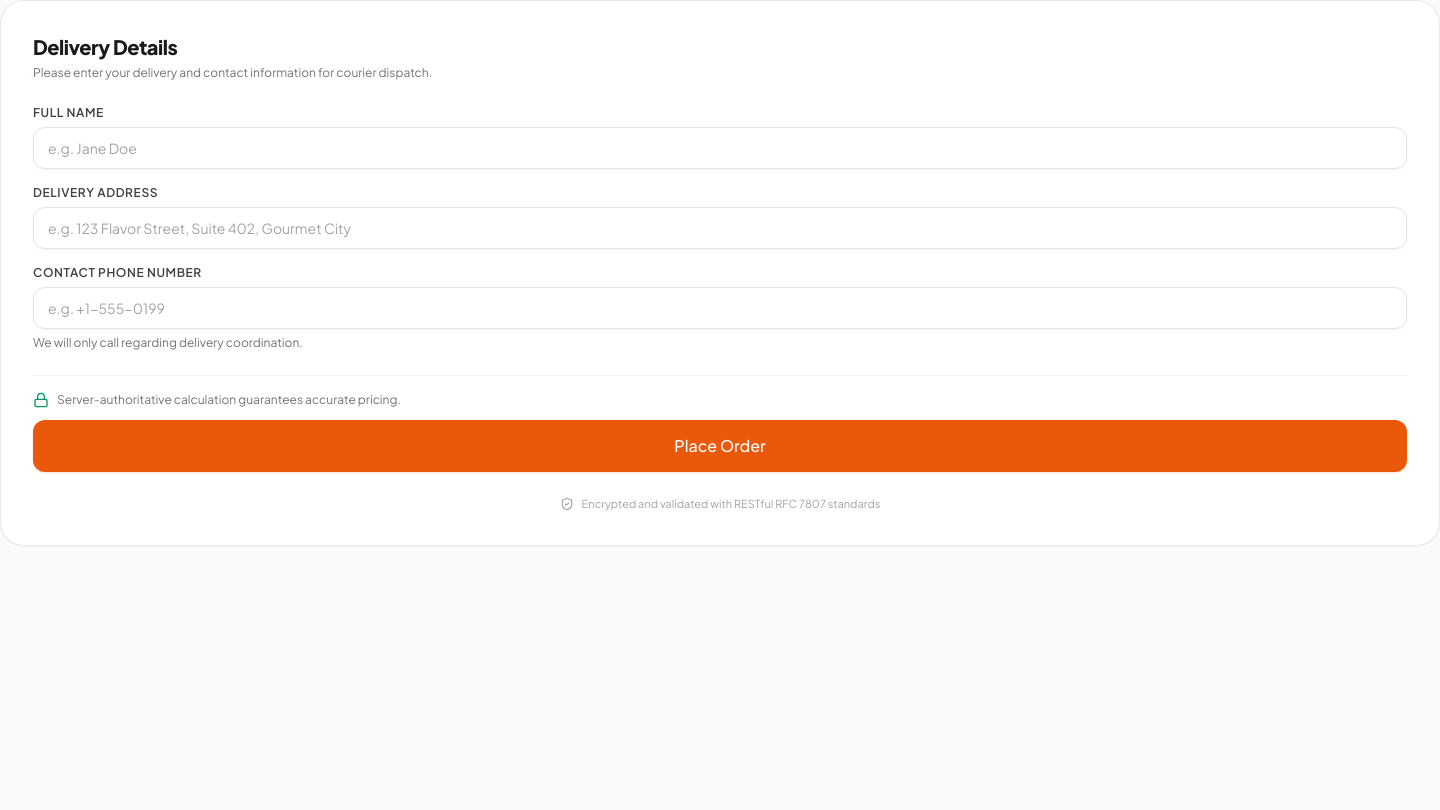
CheckoutForm Validation › displays field validation errors when submitting empty inputs
This screenshot has width=1440, height=810.
Click the button "Place Order".
click(720, 446)  # box [33, 420, 1407, 472]
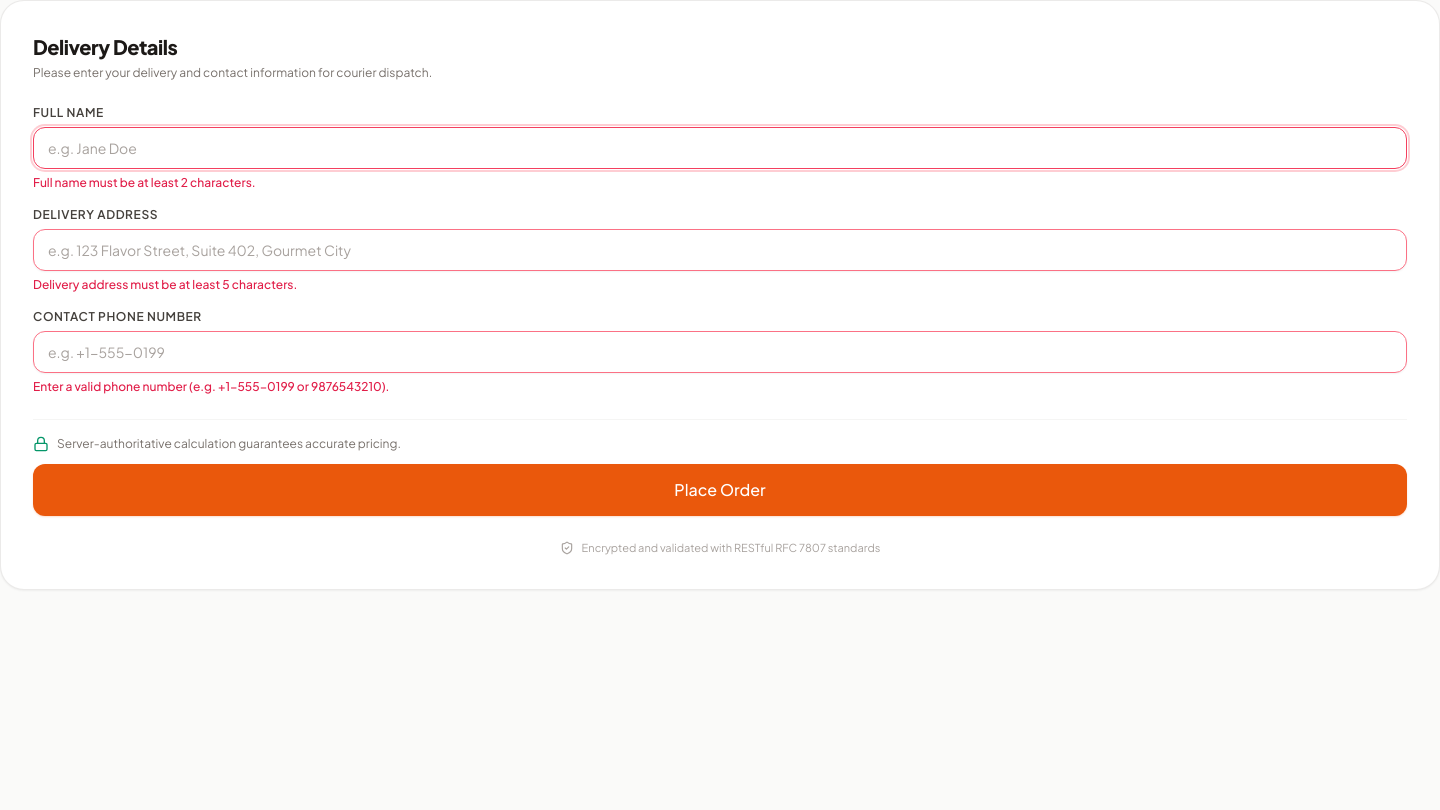
Expected: the text "Full name must be at least 2 characters." is shown, [33, 175, 256, 190]
Expected: the text "Delivery address must be at least 5 characters." is shown, [33, 277, 297, 292]
Expected: the text "Enter a valid phone number (e.g. +1-555-0199 or 9876543210)." is shown, [33, 379, 389, 394]
